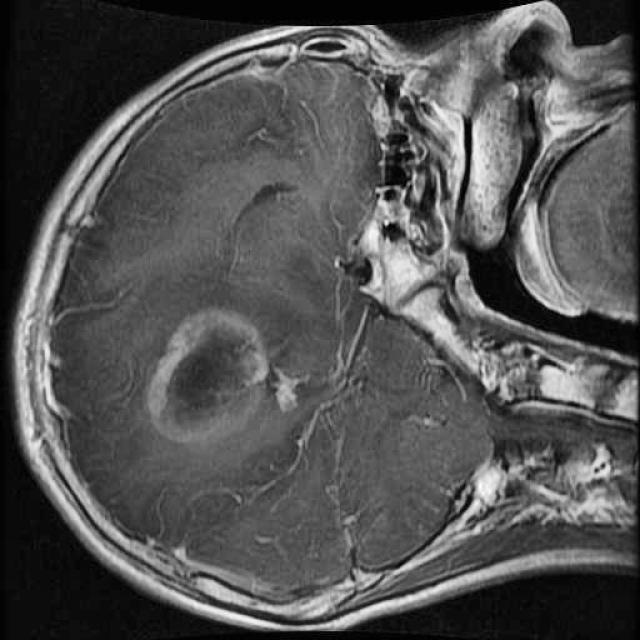Tumor: (135, 290, 320, 460)
